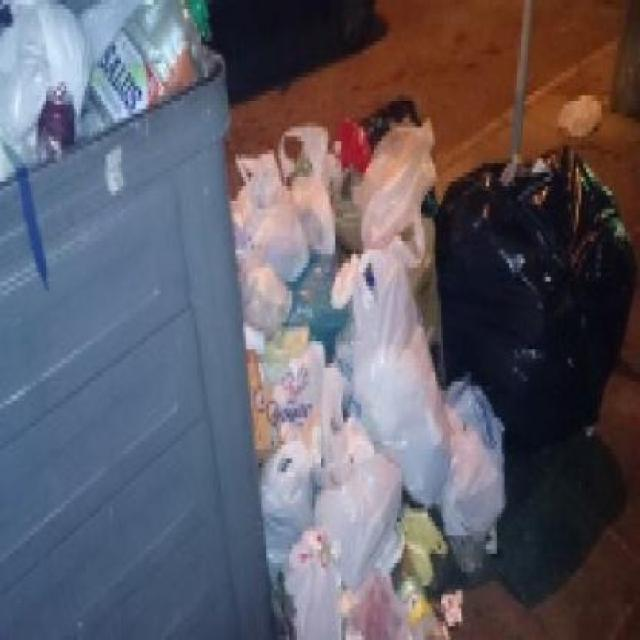garbage: (243, 159, 638, 636), (0, 0, 197, 109), (3, 105, 70, 150)
